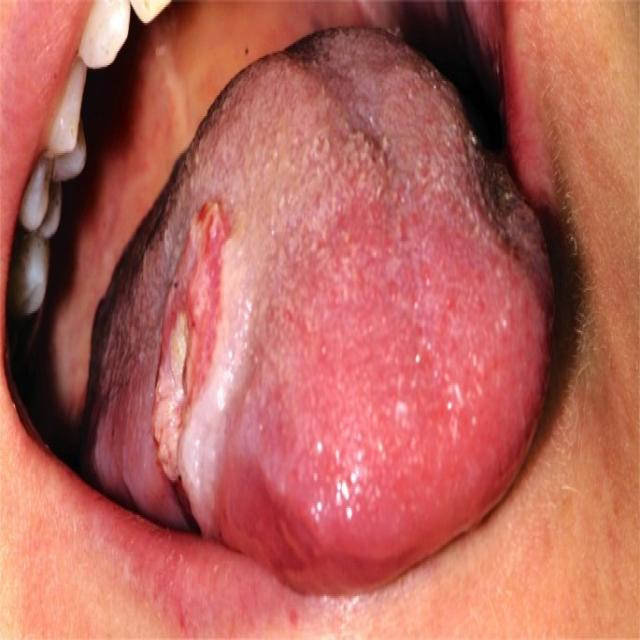Cancer: (94, 185, 274, 562)
